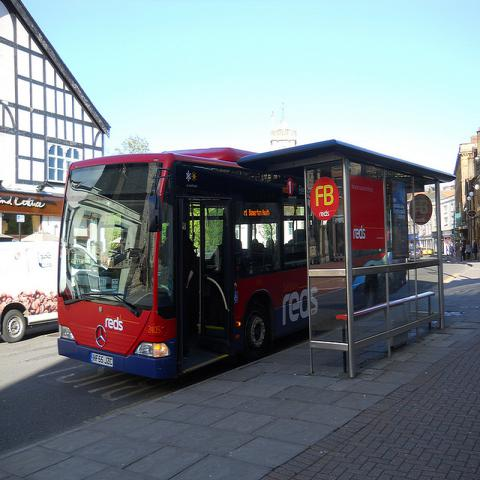bus: (58, 145, 308, 384)
car: (0, 235, 61, 342), (408, 248, 419, 261), (422, 248, 433, 255)
